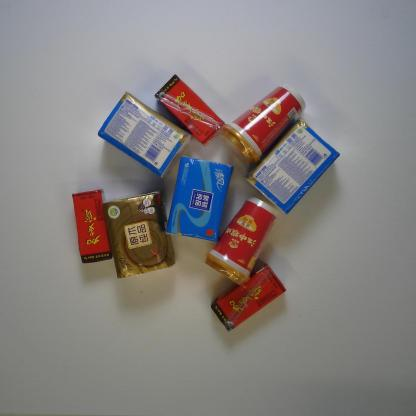Drink: (209, 263, 287, 334), (154, 74, 225, 146), (72, 188, 112, 264)
Instant Drink: (218, 83, 307, 168), (204, 196, 279, 286)
Tissue: (244, 119, 340, 215), (97, 91, 191, 178), (103, 188, 176, 278), (165, 155, 234, 243)
